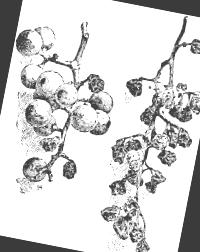Grape Rotten: (90, 5, 200, 252), (0, 7, 129, 208)
